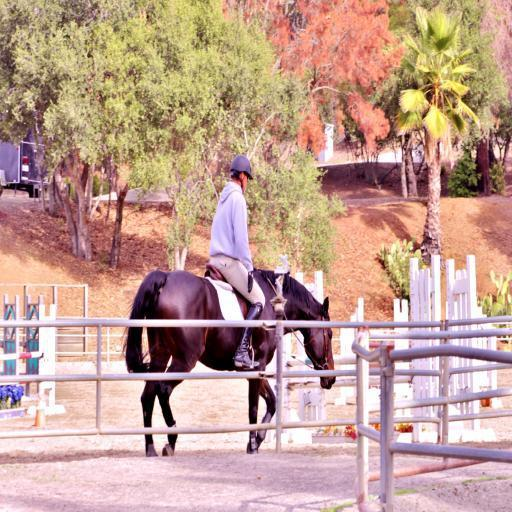horse: (118, 268, 334, 459)
